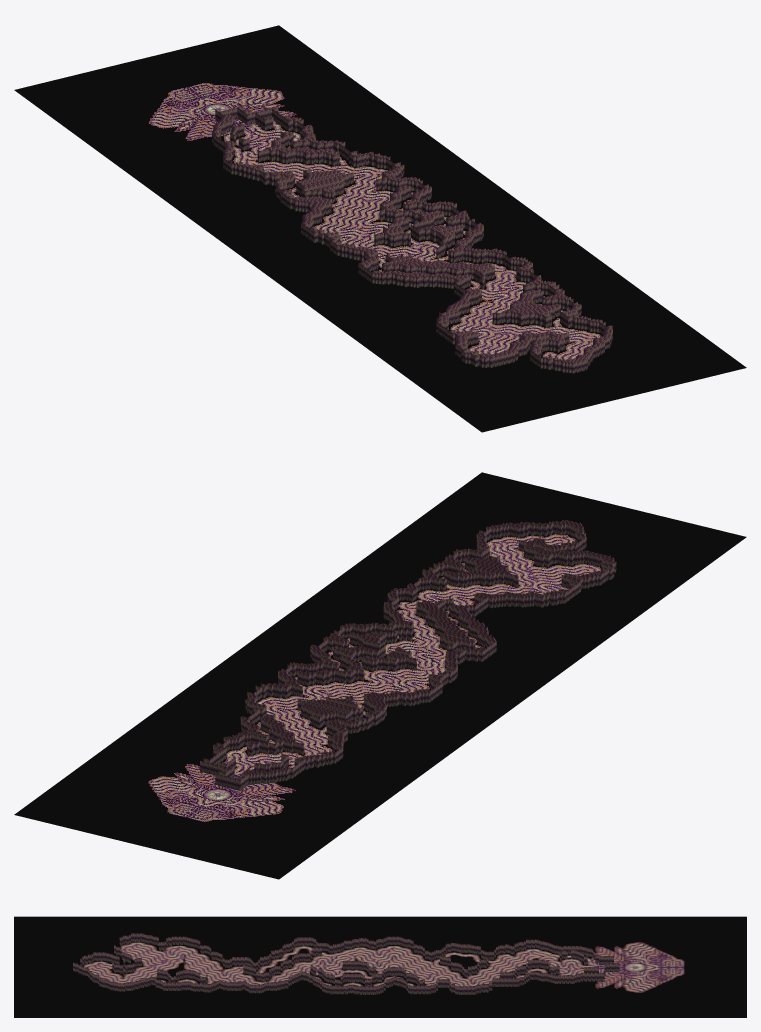
Rendered from Luna5LairSoloRev.glb.
The picture shows the model from 3 angles, top to bottom: view 1: azimuth 30°, elevation 25°; view 2: azimuth 150°, elevation 25°; view 3: azimuth 270°, elevation 25°; orthographic projection. The views are drawn at different scales.
Visible parts, largest first — view 1: Setor_1, Setor_0; view 2: Setor_1, Setor_0; view 3: Setor_1, Setor_0.
Part boxes in pixels (<box>): Setor_1: <box>14,25,746,432</box>; Setor_0: <box>212,109,576,373</box>; Setor_1: <box>14,472,746,879</box>; Setor_0: <box>227,522,616,790</box>; Setor_1: <box>14,916,746,1017</box>; Setor_0: <box>82,933,613,966</box>.
Size of the model in its own units: 51.2 by 2.02 by 157.
1 material, 1 textured.
